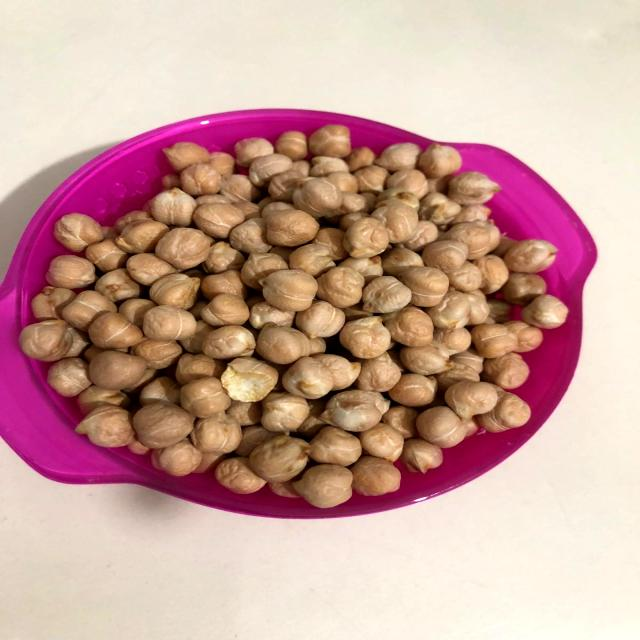chickpeas: (52, 125, 560, 504)
